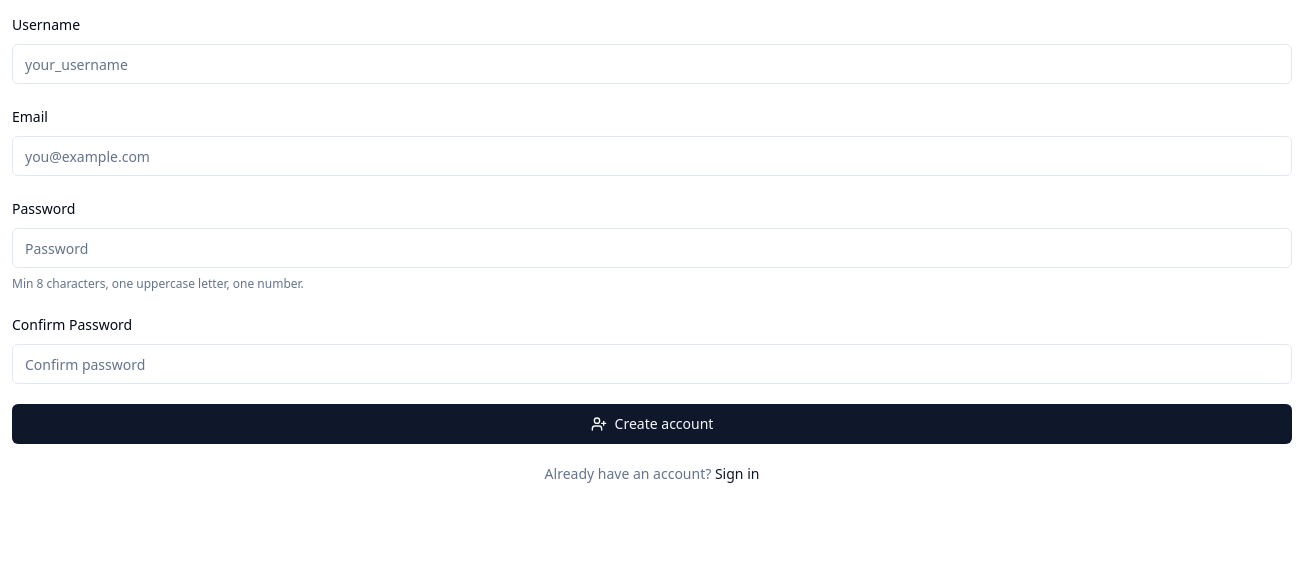
Test: RegisterForm › shows error when passwords do not match
Type "Password1" into the password field labelled "Password" at (652, 248), box [12,228,1292,268]
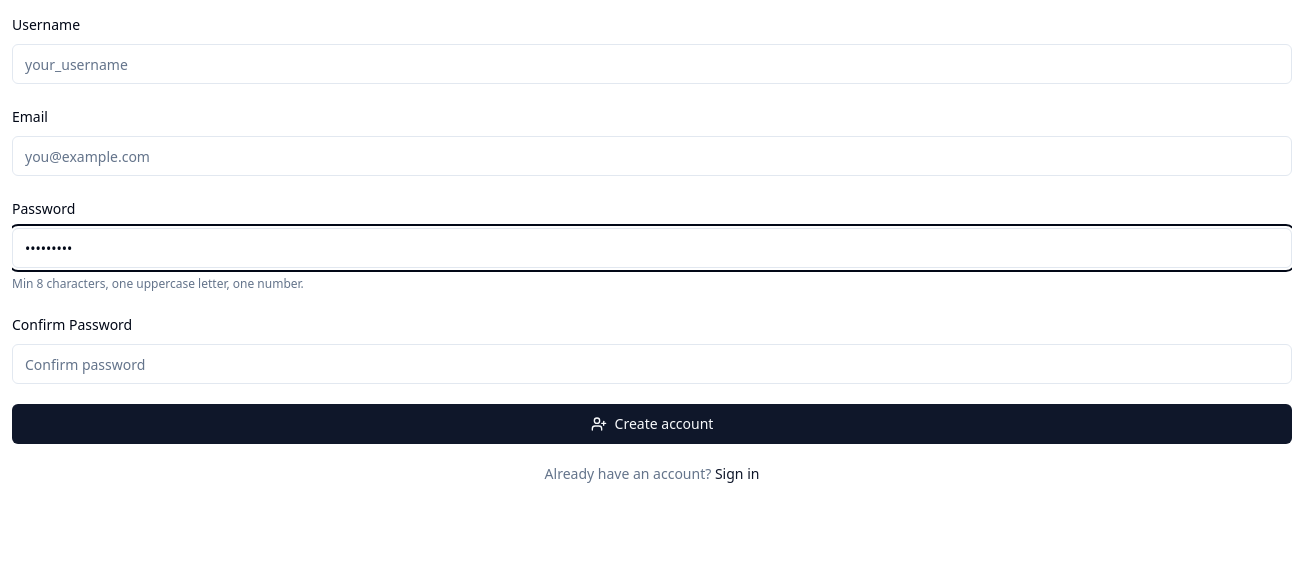
Type "Password2" into the password field labelled "Confirm Password" at (652, 364), box [12,344,1292,384]
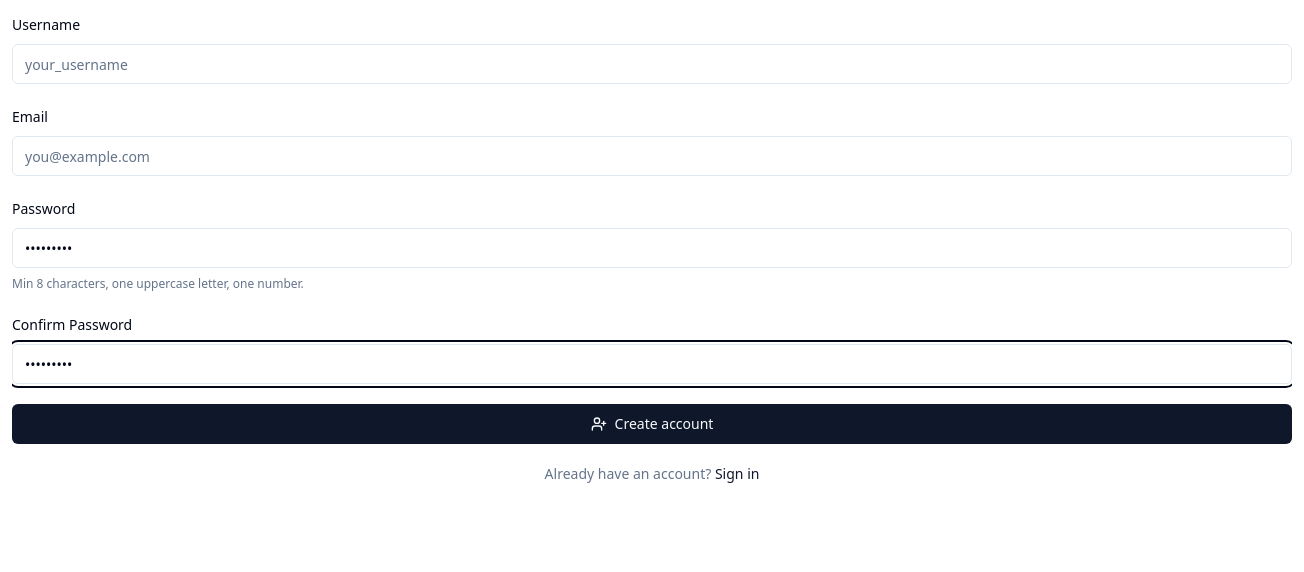
Click the button "Create account" at (652, 424), box [12,404,1292,444]
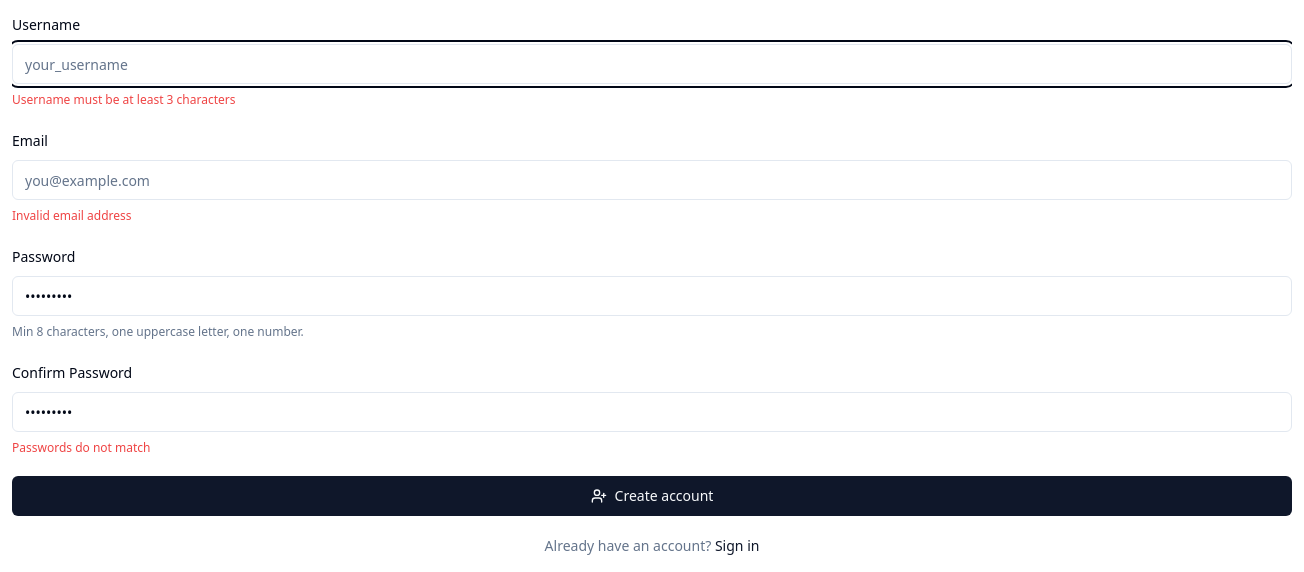
Expected: the text "Passwords do not match" is shown, [12,439,150,456]
